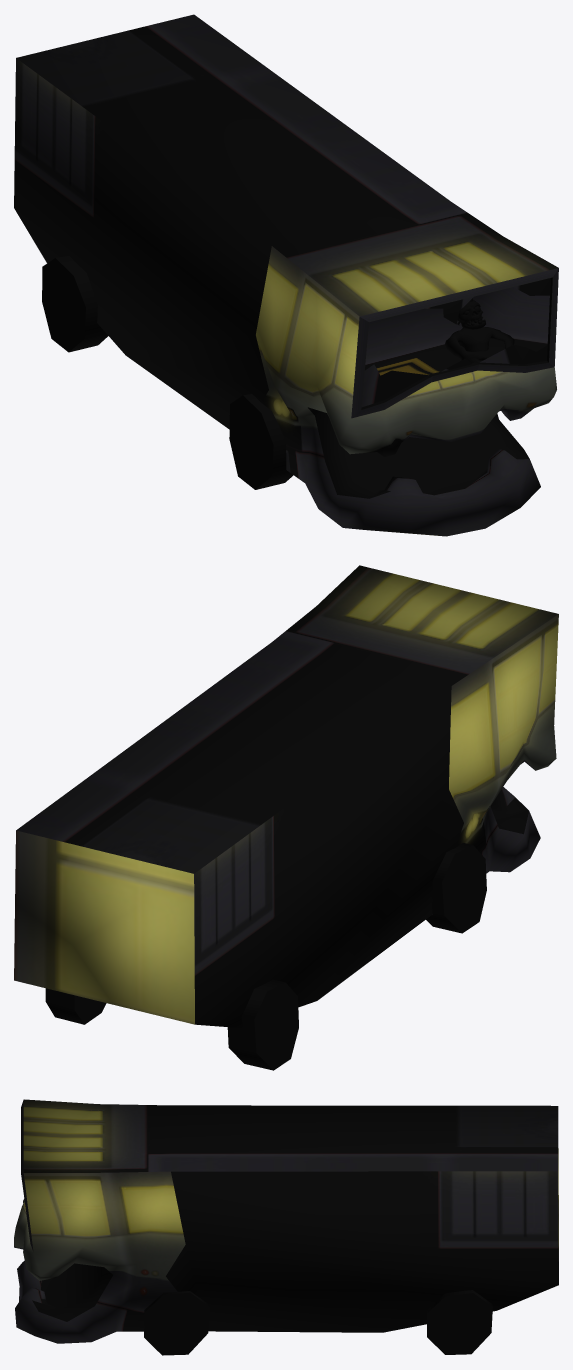
The model's file is modelBus(2).fbx.
3 views of the same model, one above another, from view 1: azimuth 30°, elevation 25°; view 2: azimuth 150°, elevation 25°; view 3: azimuth 270°, elevation 25° (orthographic). The views are drawn at different scales.
Parts seen in each view (by area): view 1: modelBus; view 2: modelBus; view 3: modelBus.
Boxes of the visible parts, x1,y1,x2,y2 form: modelBus: (14, 14, 558, 536); modelBus: (14, 565, 558, 1070); modelBus: (14, 1099, 558, 1355).
Size of the model in its own units: 170 by 174 by 480.
